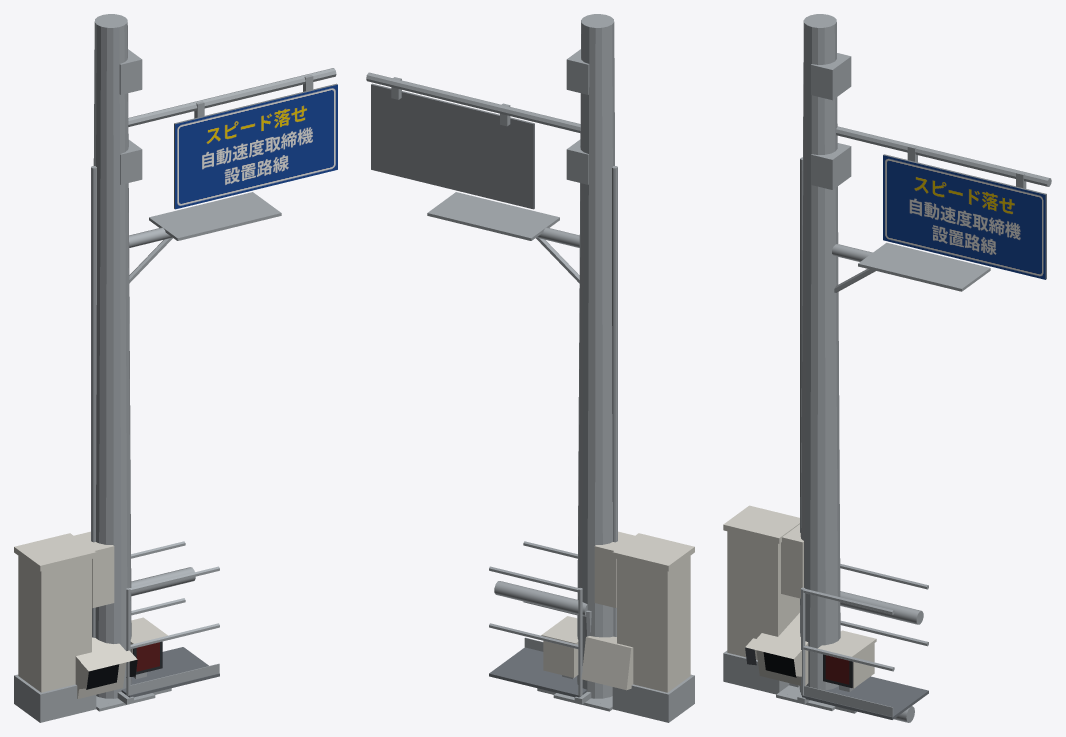
The model's file is orbis.glb.
3 renders of one model, left to right at view 1: azimuth 30°, elevation 25°; view 2: azimuth 150°, elevation 25°; view 3: azimuth 330°, elevation 25°, orthographic.
Parts seen in each view (by area): view 1: GantryPole, WarningSign, PolePost, GantryBeam, LaneUnit, GantryPost, StrobeLens; view 2: GantryPole, WarningSign, PolePost, GantryBeam, LaneUnit, GantryPost; view 3: GantryPole, WarningSign, GantryBeam, PolePost, LaneUnit, StrobeLens, GantryPost.
Part boxes in pixels (bbox=[...]): GantryPole: bbox=[14, 14, 155, 722]; WarningSign: bbox=[128, 68, 337, 209]; PolePost: bbox=[74, 192, 281, 607]; GantryBeam: bbox=[121, 541, 219, 697]; LaneUnit: bbox=[75, 617, 171, 713]; GantryPost: bbox=[117, 588, 133, 704]; StrobeLens: bbox=[136, 642, 159, 671]; GantryPole: bbox=[553, 14, 694, 722]; WarningSign: bbox=[366, 72, 580, 209]; PolePost: bbox=[427, 192, 634, 607]; GantryBeam: bbox=[489, 541, 587, 697]; LaneUnit: bbox=[537, 616, 633, 706]; GantryPost: bbox=[574, 588, 591, 704]; GantryPole: bbox=[723, 14, 851, 710]; WarningSign: bbox=[836, 126, 1051, 279]; GantryBeam: bbox=[802, 564, 928, 722]; PolePost: bbox=[781, 242, 990, 598]; LaneUnit: bbox=[745, 613, 876, 713]; StrobeLens: bbox=[825, 655, 849, 684]; GantryPost: bbox=[797, 587, 809, 704].
Bounding box in the file's own units: 3.43 × 7.18 × 0.8776.
8 materials, 1 textured.
